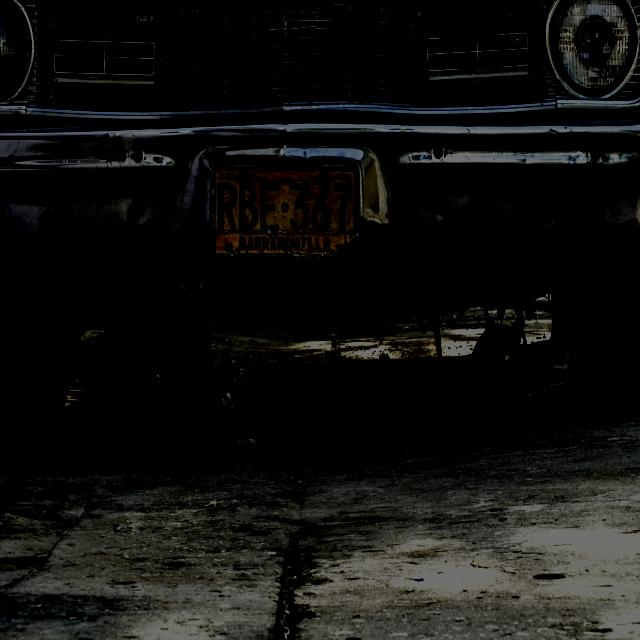placa: (209, 161, 363, 262)
